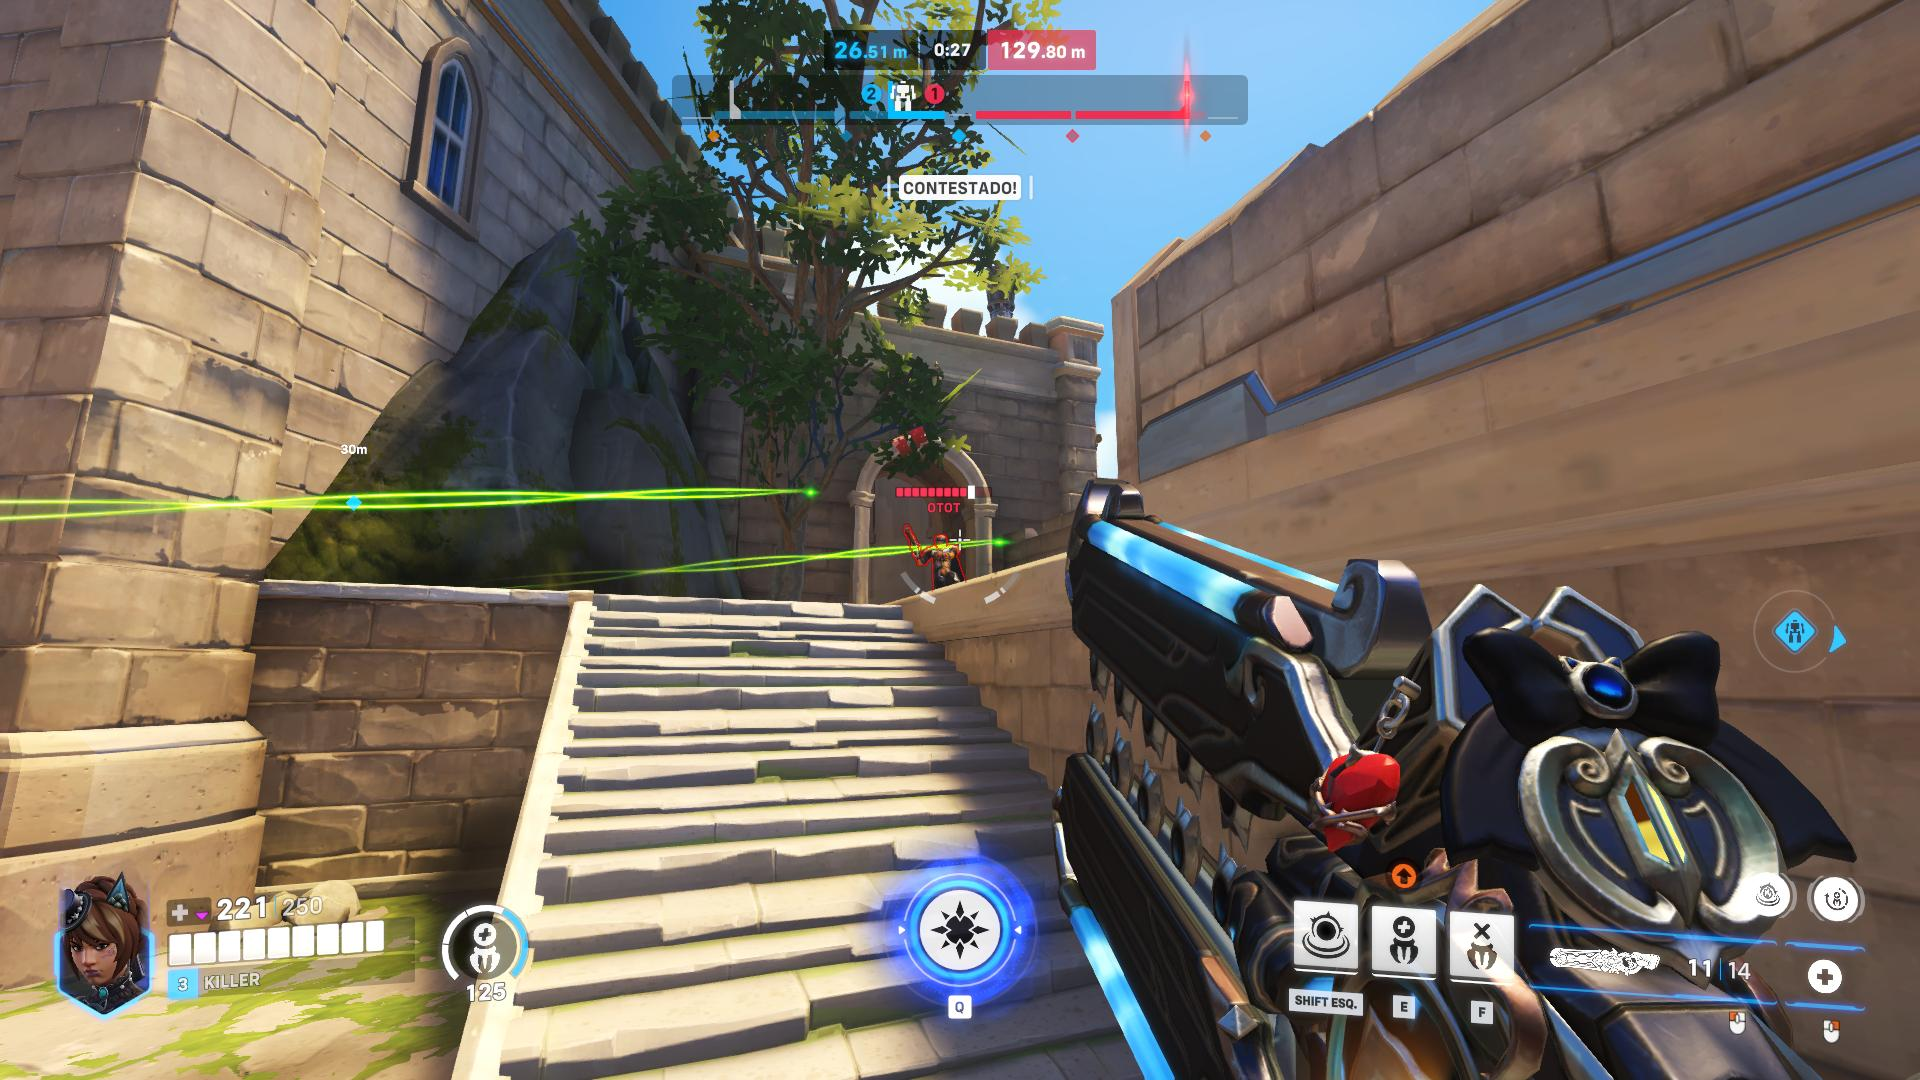enemy: (928, 533, 961, 592)
